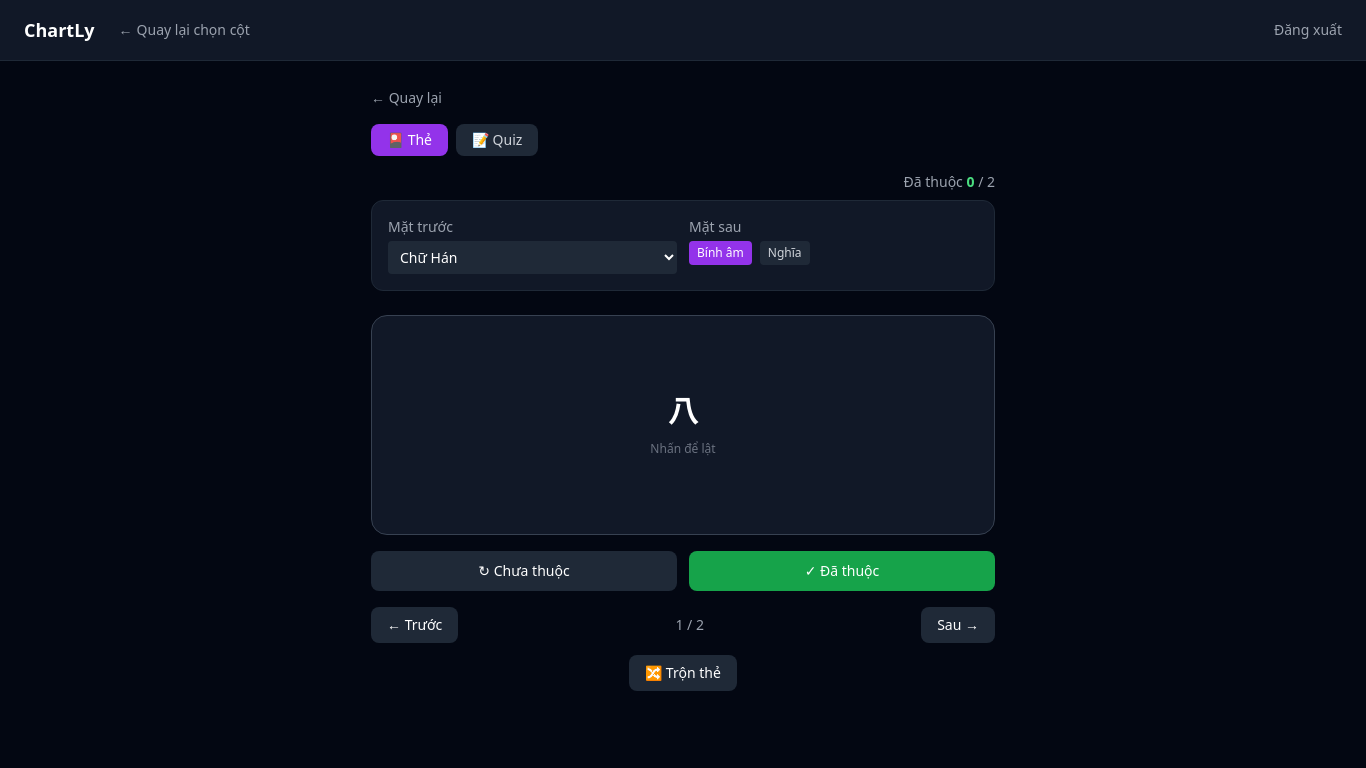
it: LearnPage › flips to reveal the back (default 2nd column)
Click the button with aria-label "Lật thẻ" at [683, 425], box [371,315,995,535]
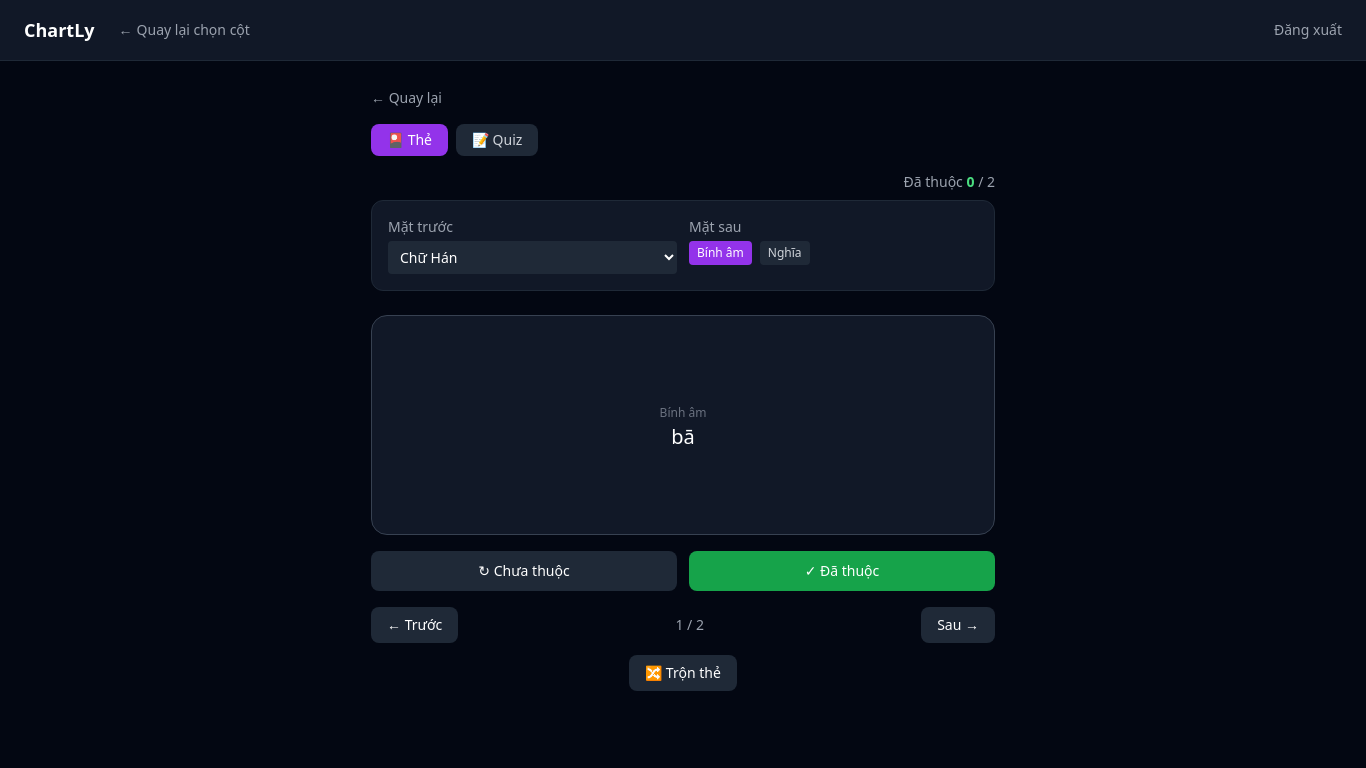
Result: the text "bā" is shown at [671,423,695,450]
